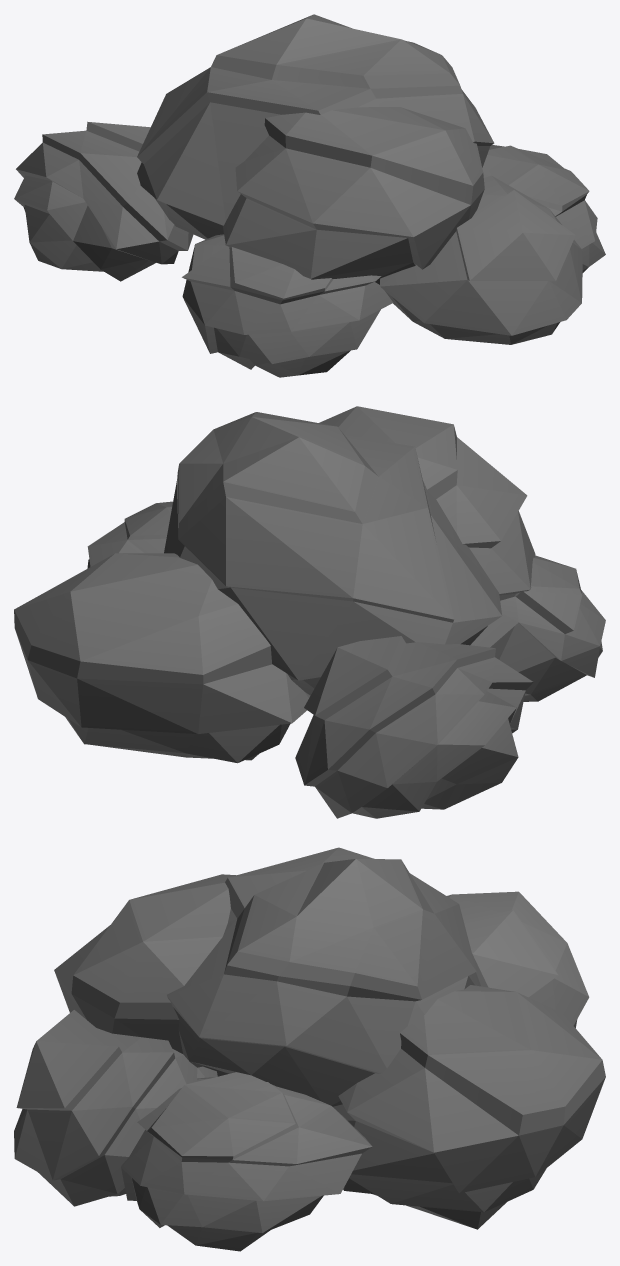
The model's file is SM_ROCK.fbx.
3 views of the same model, one above another, from view 1: azimuth 30°, elevation 25°; view 2: azimuth 150°, elevation 25°; view 3: azimuth 270°, elevation 25° (orthographic). The views are drawn at different scales.
Visible parts, largest first — view 1: ROCK; view 2: ROCK; view 3: ROCK.
Boxes of the visible parts, x1,y1,x2,y2 form: ROCK: [14, 14, 605, 377]; ROCK: [14, 406, 605, 818]; ROCK: [14, 847, 605, 1251].
Size of the model in its own units: 150 by 84 by 148.
Materials: 1 (1 with a texture image).
